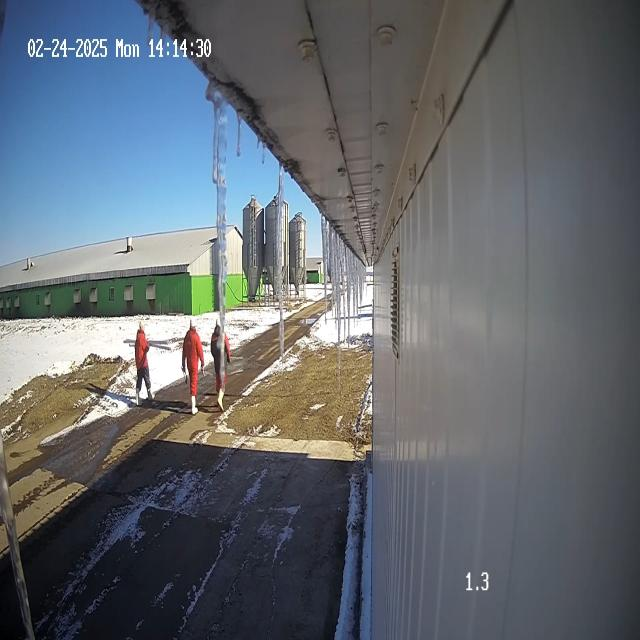Red uniform: (181, 320, 205, 415), (210, 324, 231, 411), (134, 322, 153, 406)
